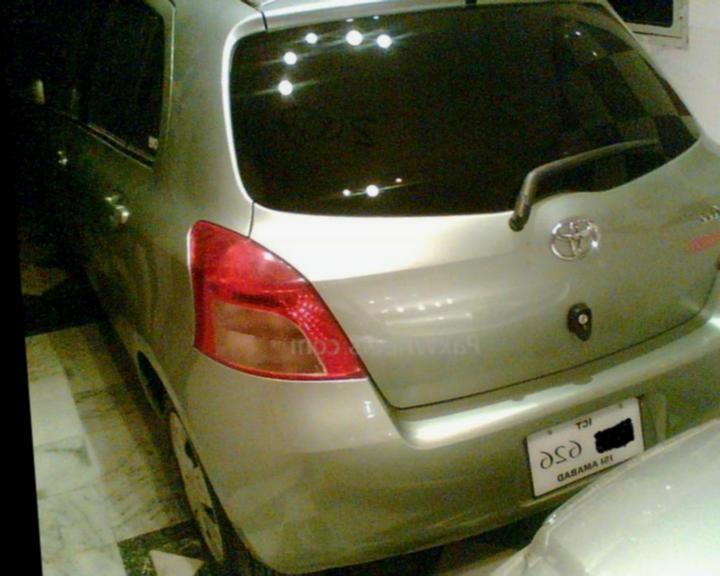License_Plate: (517, 386, 659, 506)
